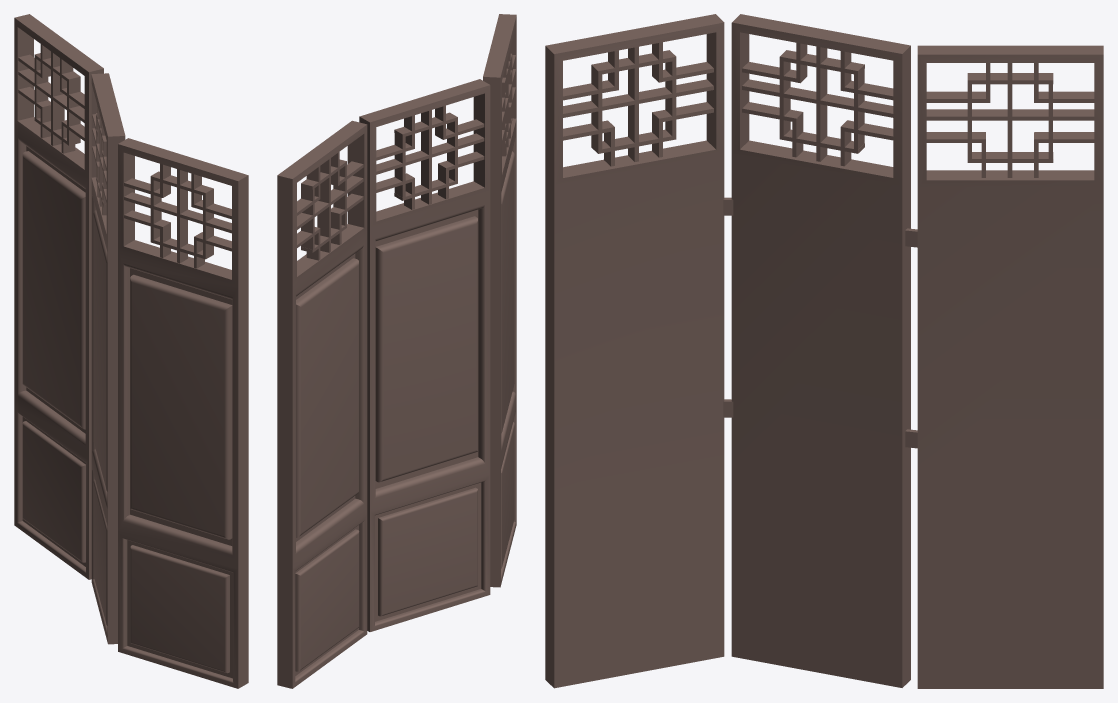
File: divider 1.fbx
The picture shows the model from 3 angles, left to right: view 1: azimuth 30°, elevation 25°; view 2: azimuth 150°, elevation 25°; view 3: azimuth 270°, elevation 25°; orthographic projection. The views are drawn at different scales.
Parts seen in each view (by area): view 1: polySurface2 (×2), polySurface1, pCube17, pCube18, pCube4, pCube3, pCube7, pCube21, pCube22, pCube19, pCube8, pCube20 (+1 smaller); view 2: polySurface2 (×2), polySurface1, pCube17, pCube18, pCube4, pCube3, pCube22, pCube8, pCube19, pCube21, pCube20, pCube7 (+1 smaller); view 3: polySurface2 (×2), polySurface1, pCube17 (×2), pCube18 (×2), pCube3, pCube5, pCube19.
Part boxes in pixels (x1=…): polySurface2 (×2): x1=91, y1=73, x2=248, y2=688; polySurface1: x1=14, y1=14, x2=103, y2=579; pCube17: x1=124, y1=192, x2=231, y2=233; pCube18: x1=177, y1=169, x2=187, y2=263; pCube4: x1=51, y1=51, x2=64, y2=145; pCube3: x1=18, y1=69, x2=84, y2=122; pCube7: x1=67, y1=79, x2=80, y2=144; pCube21: x1=203, y1=192, x2=213, y2=258; pCube22: x1=150, y1=177, x2=161, y2=242; pCube19: x1=150, y1=171, x2=213, y2=196; pCube8: x1=34, y1=56, x2=48, y2=120; pCube20: x1=150, y1=236, x2=213, y2=259; polySurface2 (×2): x1=359, y1=14, x2=516, y2=631; polySurface1: x1=277, y1=120, x2=367, y2=688; pCube17: x1=376, y1=133, x2=484, y2=174; pCube18: x1=421, y1=110, x2=431, y2=204; pCube4: x1=317, y1=158, x2=330, y2=252; pCube3: x1=297, y1=175, x2=363, y2=229; pCube22: x1=394, y1=133, x2=405, y2=200; pCube8: x1=301, y1=186, x2=314, y2=251; pCube19: x1=394, y1=112, x2=457, y2=137; pCube21: x1=447, y1=120, x2=457, y2=181; pCube20: x1=394, y1=178, x2=457, y2=200; pCube7: x1=333, y1=163, x2=346, y2=227; polySurface2 (×2): x1=545, y1=14, x2=910, y2=688; polySurface1: x1=917, y1=45, x2=1103, y2=688; pCube17 (×2): x1=563, y1=79, x2=893, y2=117; pCube18 (×2): x1=628, y1=46, x2=827, y2=161; pCube3: x1=926, y1=109, x2=1094, y2=120; pCube5: x1=967, y1=73, x2=1053, y2=84; pCube19: x1=779, y1=50, x2=864, y2=74.
Bounding box in the file's own units: 5.57 × 40 × 31.92.
